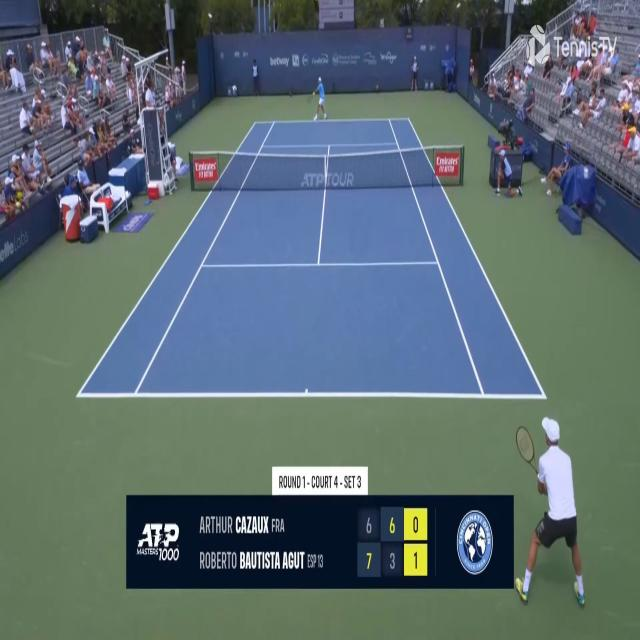tennis-player: (515, 413, 587, 606), (310, 74, 328, 122)
